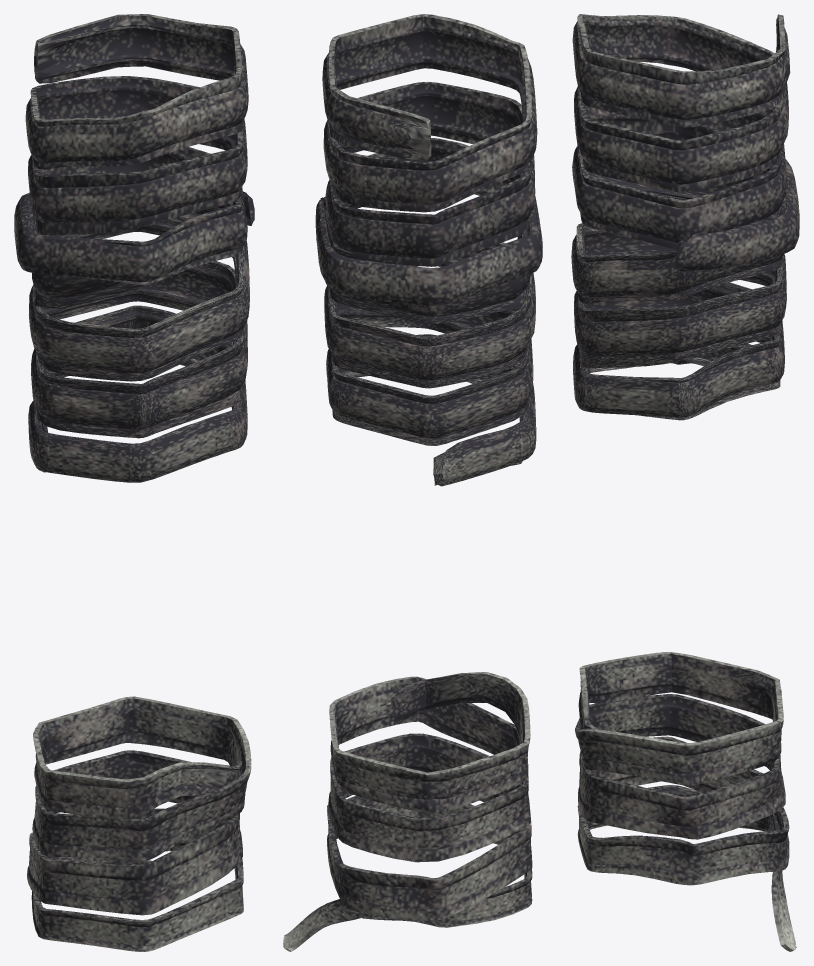
File: sword_wrap.fbx
The picture shows the model from 3 angles, left to right: view 1: azimuth 30°, elevation 25°; view 2: azimuth 150°, elevation 25°; view 3: azimuth 270°, elevation 25°; orthographic projection. The views are drawn at different scales.
Visible parts, largest first — view 1: Sword Grip; view 2: Sword Grip; view 3: Sword Grip.
Boxes of the visible parts, box(x1,y1,x2,y2) form: Sword Grip: box(14, 14, 254, 951); Sword Grip: box(283, 14, 542, 951); Sword Grip: box(571, 14, 799, 951).
Size of the model in its own units: 7.74 by 28.93 by 6.77.
